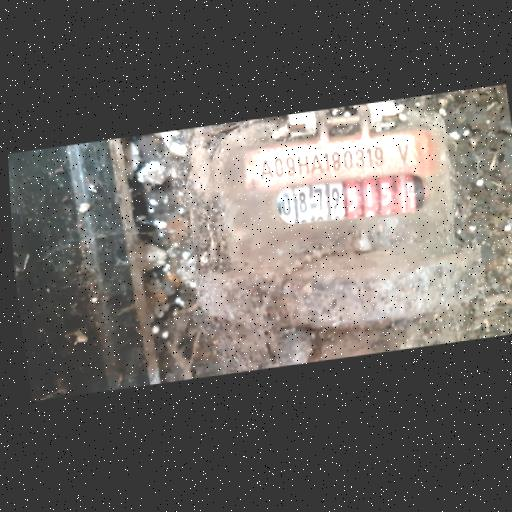0: (277, 185, 297, 227)
1: (360, 177, 382, 219)
5: (377, 176, 400, 218), (344, 179, 365, 221)
7: (396, 174, 419, 216), (311, 182, 332, 224)
8: (294, 182, 315, 224)
9: (327, 181, 348, 223)
border_water_meter_number: (271, 167, 429, 233)
